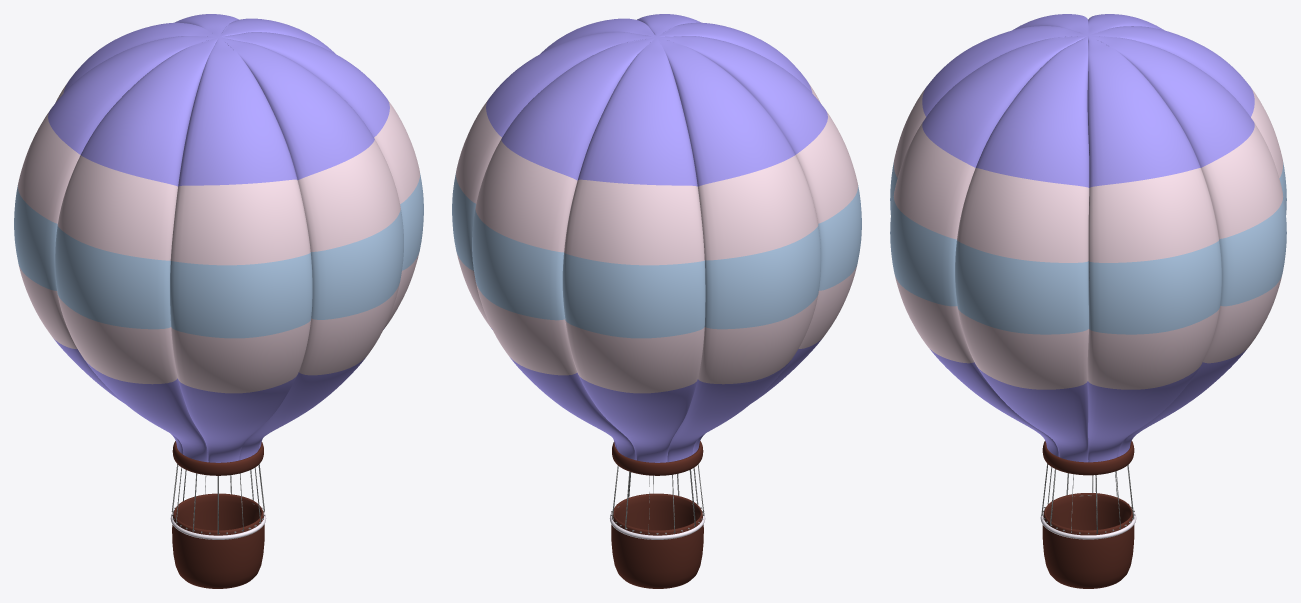
3 renders of one model, left to right at view 1: azimuth 30°, elevation 25°; view 2: azimuth 150°, elevation 25°; view 3: azimuth 270°, elevation 25°, orthographic.
Parts seen in each view (by area): view 1: Sphere, Circle, Circle.001, Cycloid.001; view 2: Sphere, Circle, Circle.001, Cycloid.001; view 3: Sphere, Circle, Circle.001, Cycloid.001, BezierCircle.
Part boxes in pixels (bbox=[...]): Sphere: bbox=[14, 14, 423, 462]; Circle: bbox=[172, 493, 264, 588]; Circle.001: bbox=[172, 441, 263, 475]; Cycloid.001: bbox=[171, 464, 265, 534]; Sphere: bbox=[452, 14, 861, 462]; Circle: bbox=[611, 493, 703, 588]; Circle.001: bbox=[612, 441, 703, 475]; Cycloid.001: bbox=[610, 464, 704, 534]; Sphere: bbox=[890, 14, 1286, 462]; Circle: bbox=[1042, 493, 1134, 588]; Circle.001: bbox=[1042, 441, 1134, 475]; Cycloid.001: bbox=[1041, 463, 1135, 533]; BezierCircle: bbox=[1040, 509, 1136, 539].
Bounding box in the file's own units: 777 × 1169 × 777.
